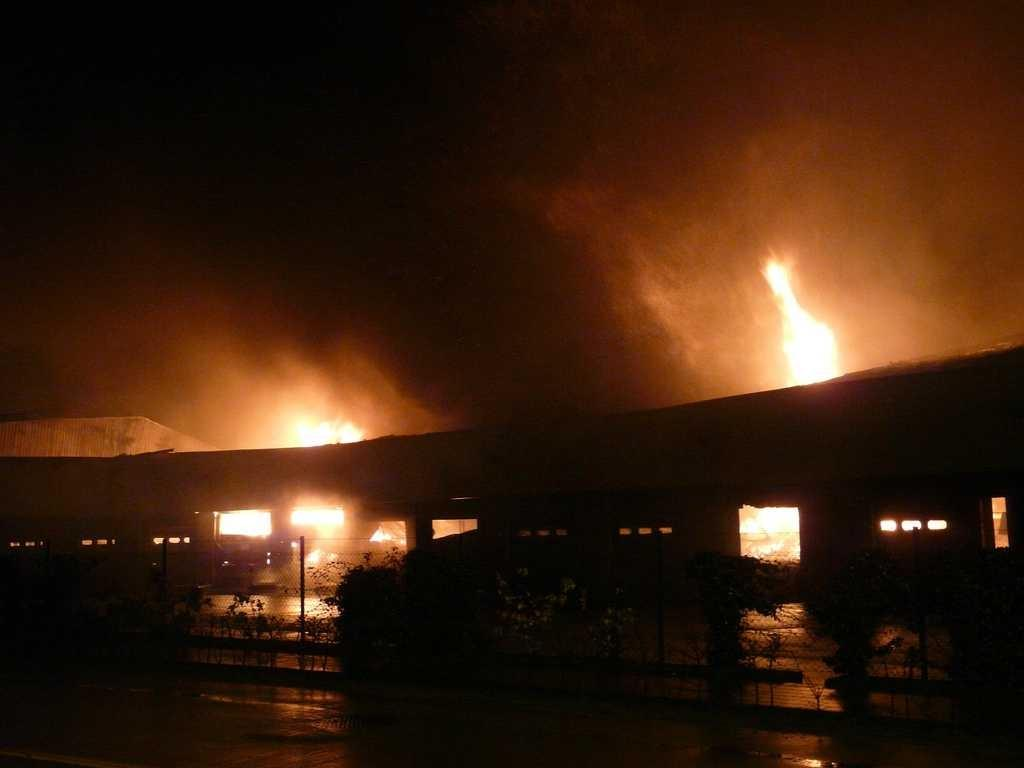fire: (747, 503, 797, 563), (787, 327, 838, 378), (273, 415, 360, 442), (220, 510, 272, 538), (295, 508, 345, 532)
